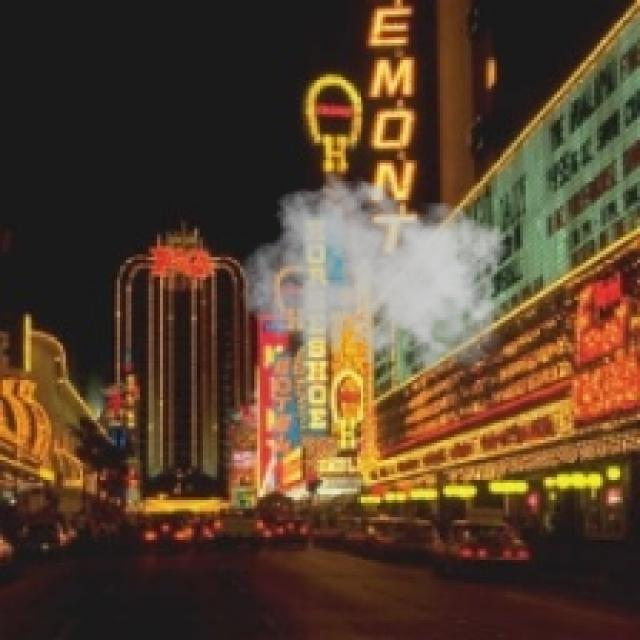Smoke: (240, 171, 517, 383)
